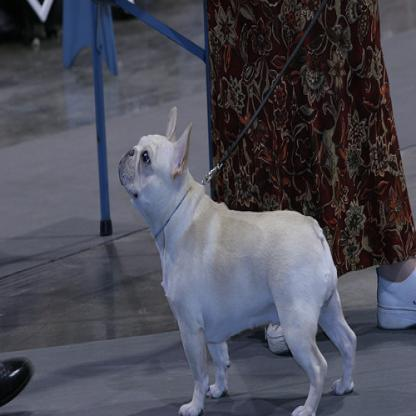French_bulldog: (116, 104, 357, 412)
